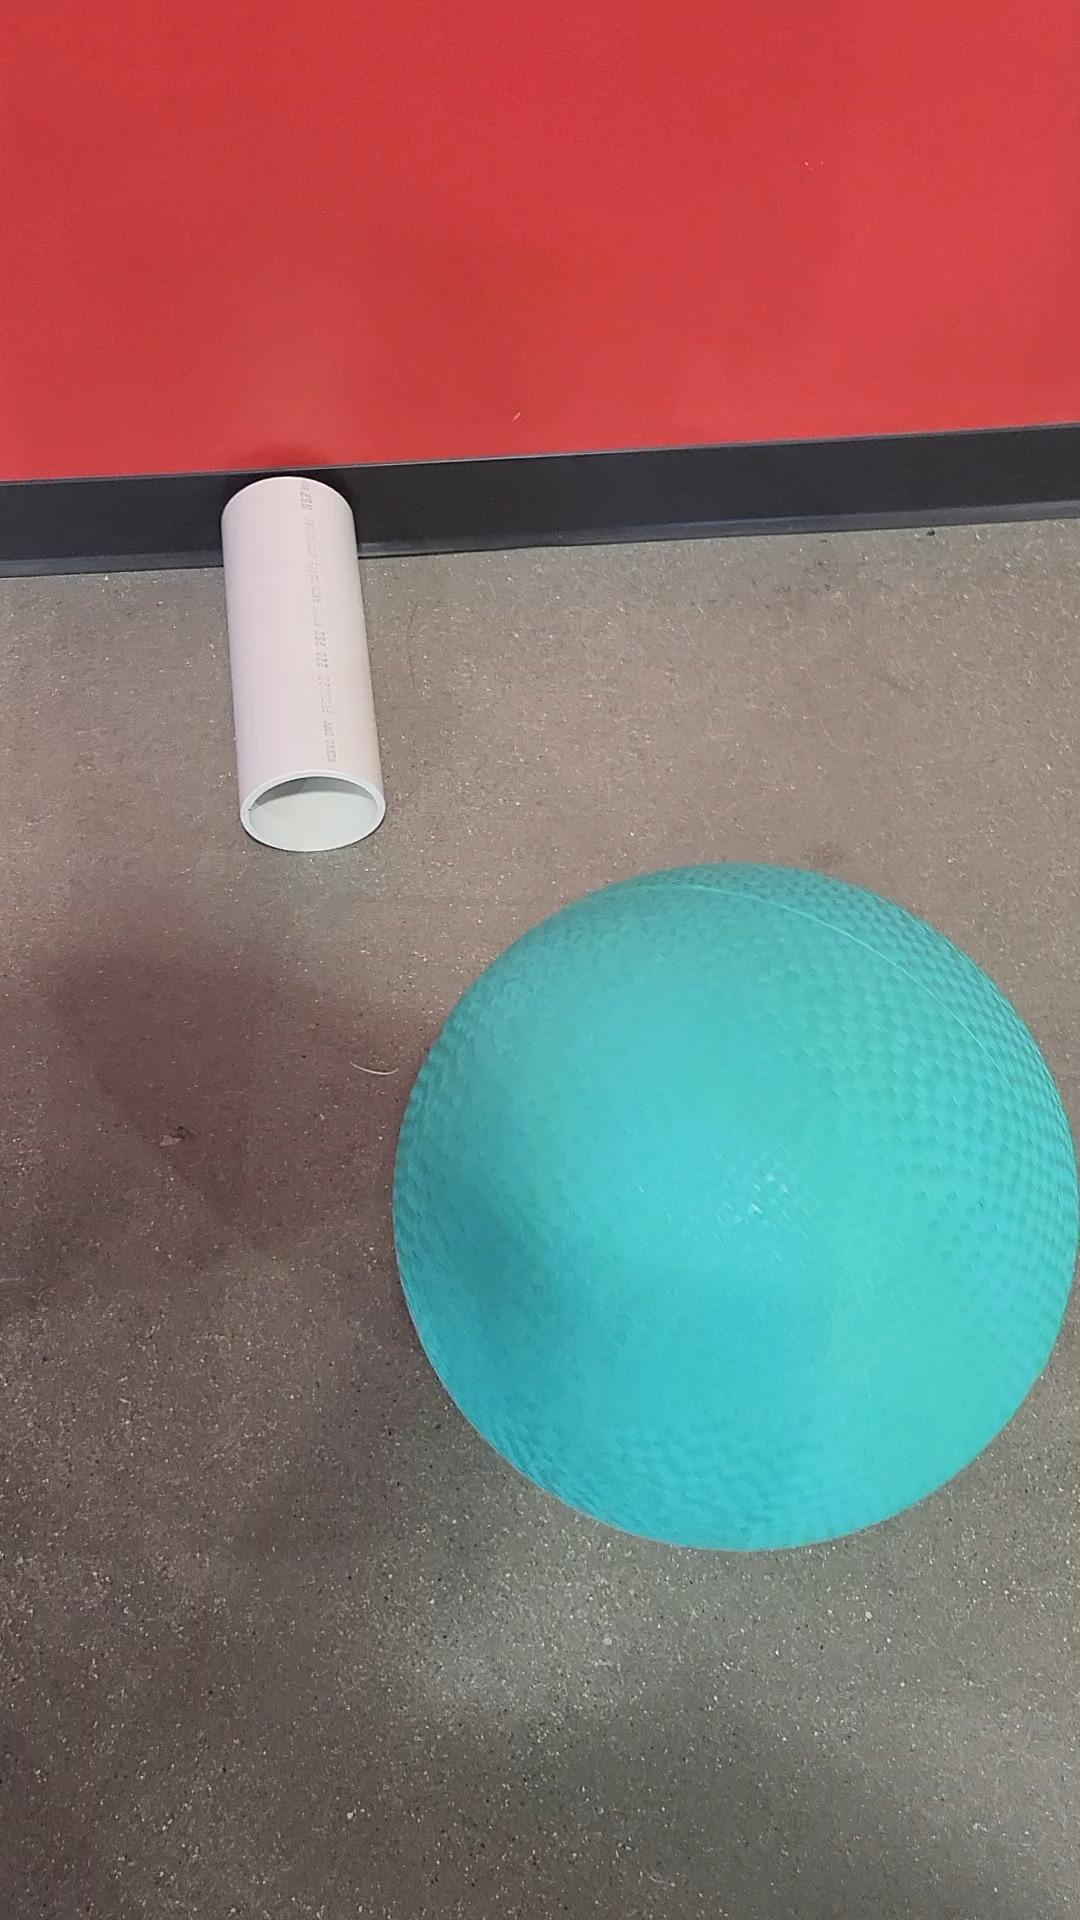algae: (371, 847, 1080, 1569)
coral: (211, 456, 390, 869)
